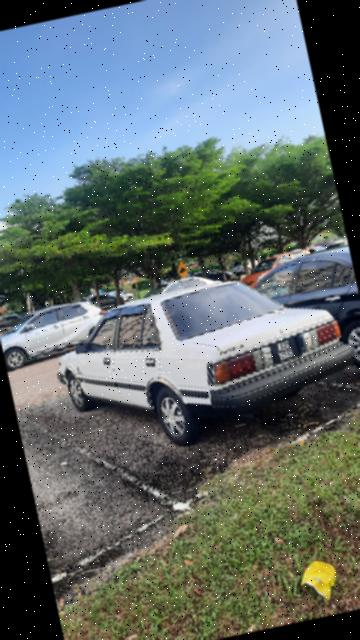License_Plate: (267, 333, 310, 369)
car: (43, 256, 360, 464), (244, 246, 360, 389), (1, 295, 118, 369)
